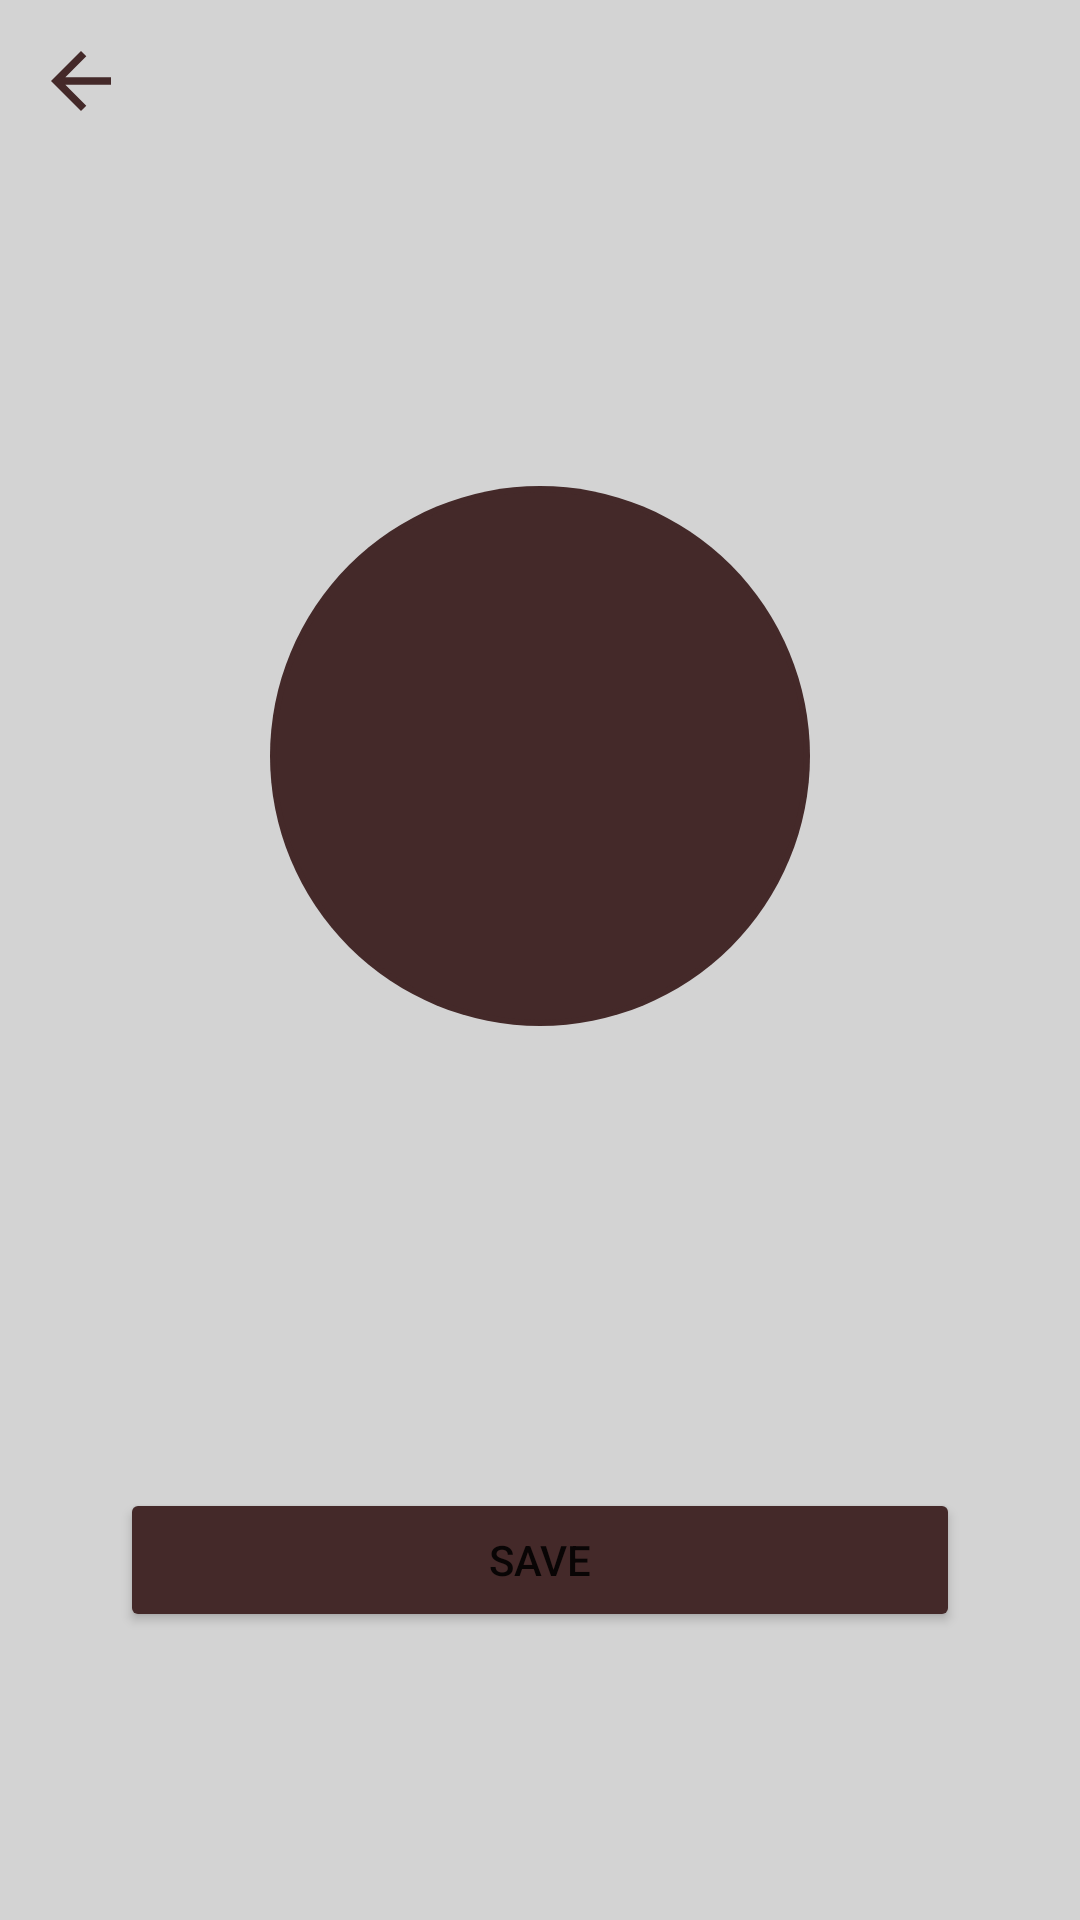

Named icons in this screenshot (1080w x 1920h) and their bounding boxes, bbox=(x1, y1, x2, y2):
arrow back: bbox=(51, 51, 111, 111)
